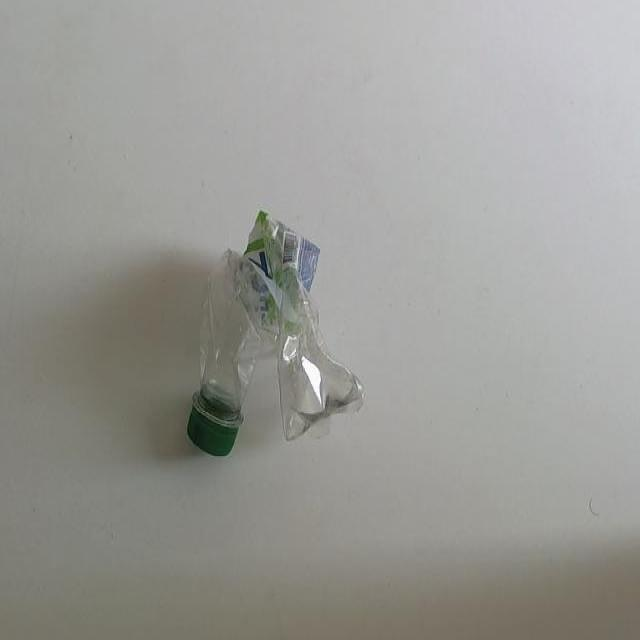defect: (183, 206, 368, 462)
